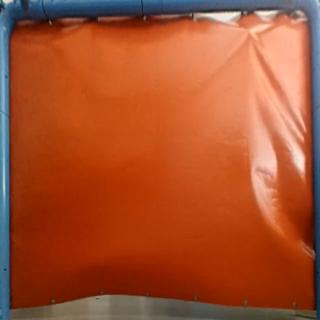Hit-hRxx: (241, 25, 261, 44)
